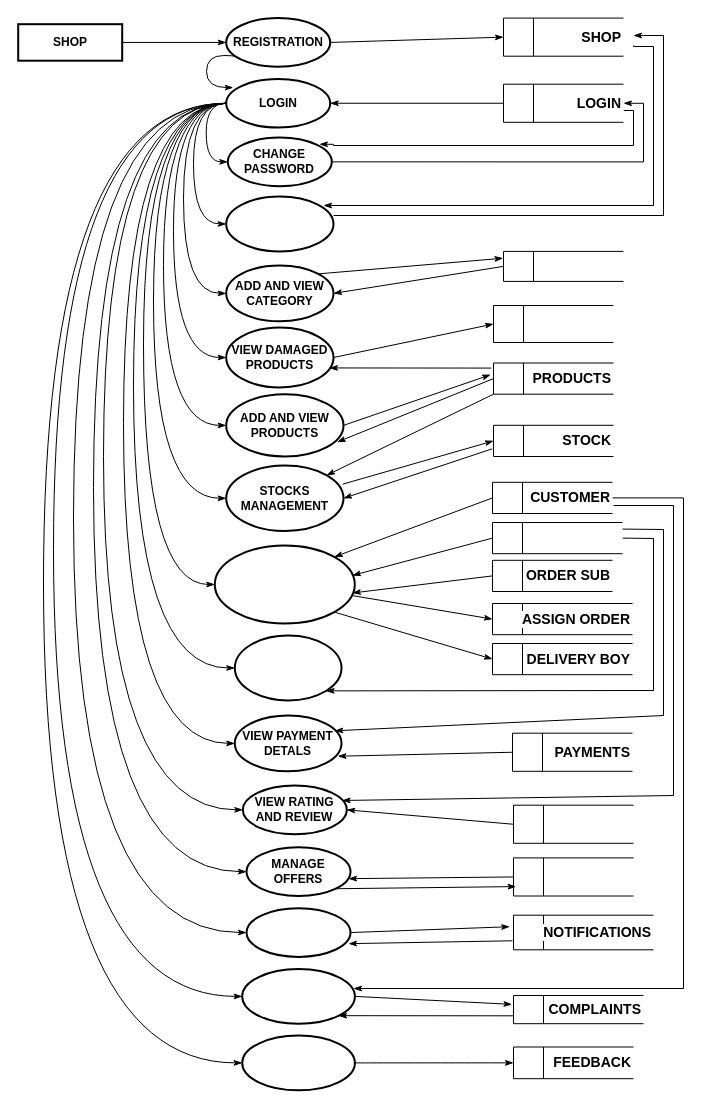
This 709x1109 diagram has some shape labels left out. The shapes that lost their labels are listed below. From the top down, each one's centre as x and y in pixels, then its label:
At (x=279, y=223): "VIEW AND EDIT PROFILE".
At (x=563, y=265): "CATEGORY".
At (x=553, y=323): "DAMAGED PRODUCTS".
At (x=557, y=538): "ORDER MAIN".
At (x=284, y=584): "VIEW ORDERS AND ASSIGN TO DELIVERY BOYS".
At (x=287, y=667): "VIEW DELIVERY STATUS".
At (x=573, y=823): "REVIEW".
At (x=573, y=876): "OFFERS".
At (x=298, y=932): "MANAGE NOTIFICATIONS".
At (x=298, y=996): "VIEW COMPLAINTS AND SEND REPLY".
At (x=298, y=1062): "SEND APP FEEDBACK".
